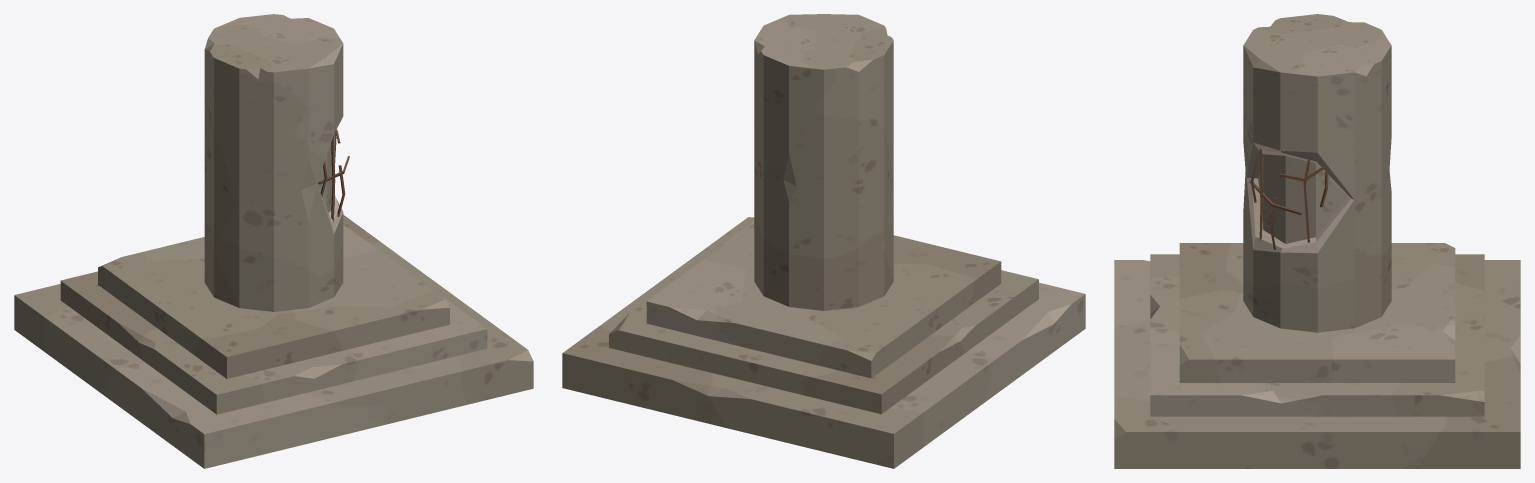
File: SM_Prop_Statue_Base_02.glb
3 renders of one model, left to right at view 1: azimuth 30°, elevation 25°; view 2: azimuth 150°, elevation 25°; view 3: azimuth 270°, elevation 25°, orthographic. The views are drawn at different scales.
Visible parts, largest first — view 1: SM_Prop_Statue_Base_02; view 2: SM_Prop_Statue_Base_02; view 3: SM_Prop_Statue_Base_02.
Boxes of the visible parts, box(x1,y1,x2,y2) form: SM_Prop_Statue_Base_02: box(14, 14, 533, 468); SM_Prop_Statue_Base_02: box(562, 14, 1085, 468); SM_Prop_Statue_Base_02: box(1114, 14, 1520, 468).
Size of the model in its own units: 3.44 by 3.16 by 3.44.
1 material, 1 textured.
